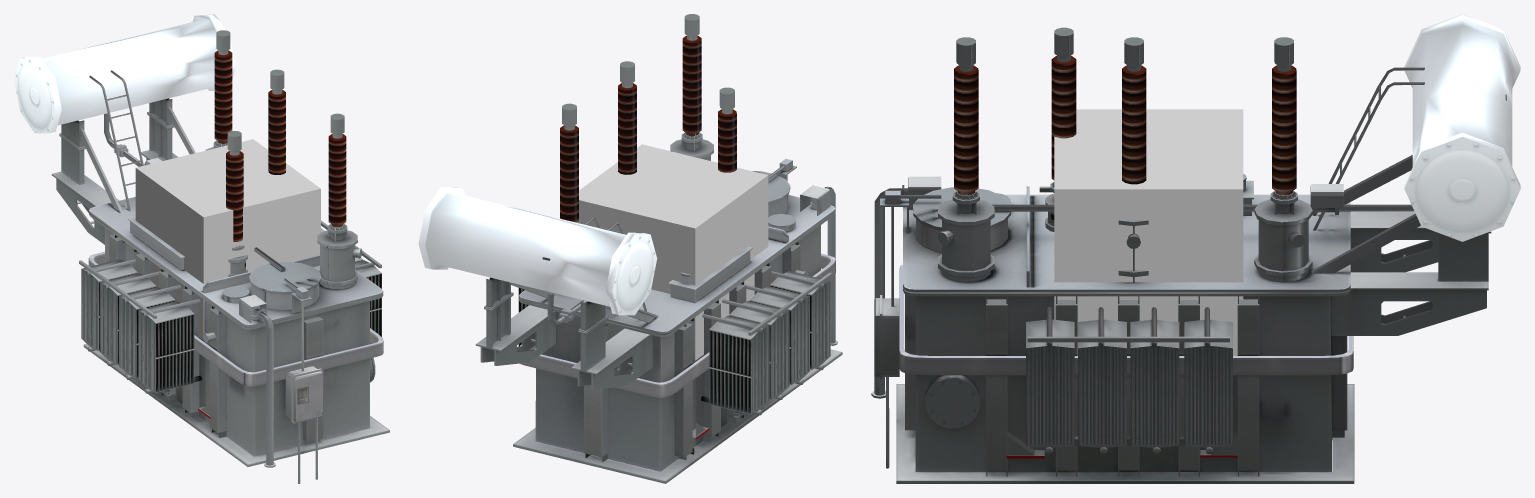
Rendered from transformer2.glb.
The picture shows the model from 3 angles, left to right: view 1: azimuth 30°, elevation 25°; view 2: azimuth 150°, elevation 25°; view 3: azimuth 270°, elevation 25°; orthographic projection. The views are drawn at different scales.
Parts seen in each view (by area): view 1: Transformer, Cube; view 2: Transformer, Cube; view 3: Transformer, Cube.
Boxes of the visible parts, box(x1,y1,x2,y2) form: Transformer: box(14, 14, 389, 483); Cube: box(135, 139, 320, 340); Transformer: box(418, 14, 842, 483); Cube: box(577, 144, 768, 360); Transformer: box(871, 14, 1520, 483); Cube: box(1054, 109, 1243, 355).
Size of the model in its own units: 3.85 by 5.37 by 6.87.
4 materials, 3 textured.
